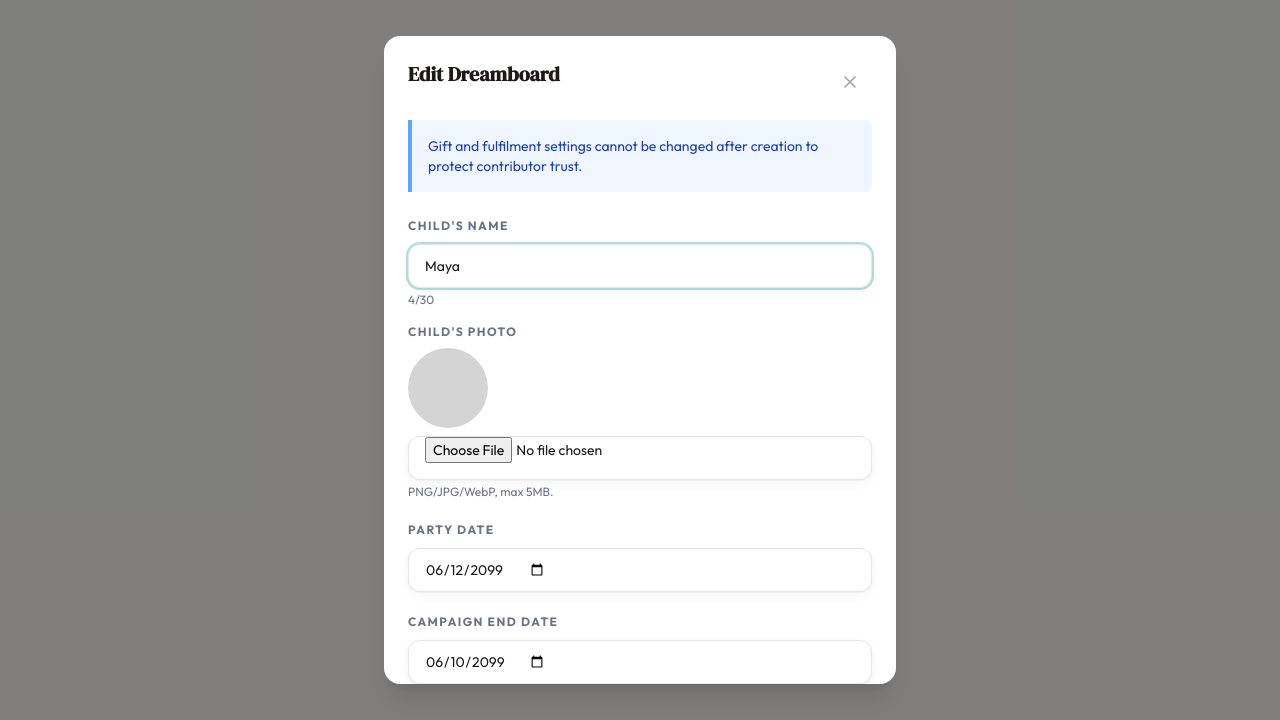
Scenario: EditDreamBoardModal › blocks campaign end date after party date
Type "2099-06-13" into the date field labelled "Campaign End Date".
click(640, 662); type("2099-06-13")  # box [408,640,872,684]
(page scrolled)
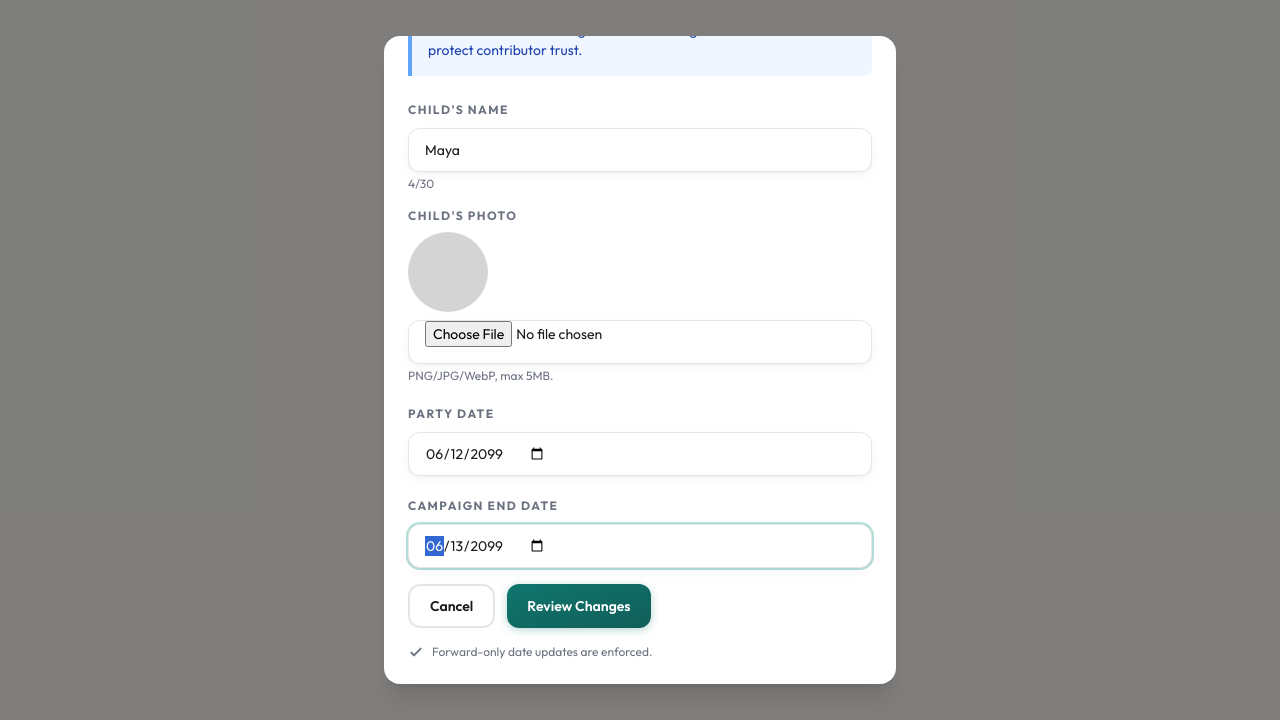
Click the button "Review Changes".
click(579, 606)  # box [507,584,651,628]
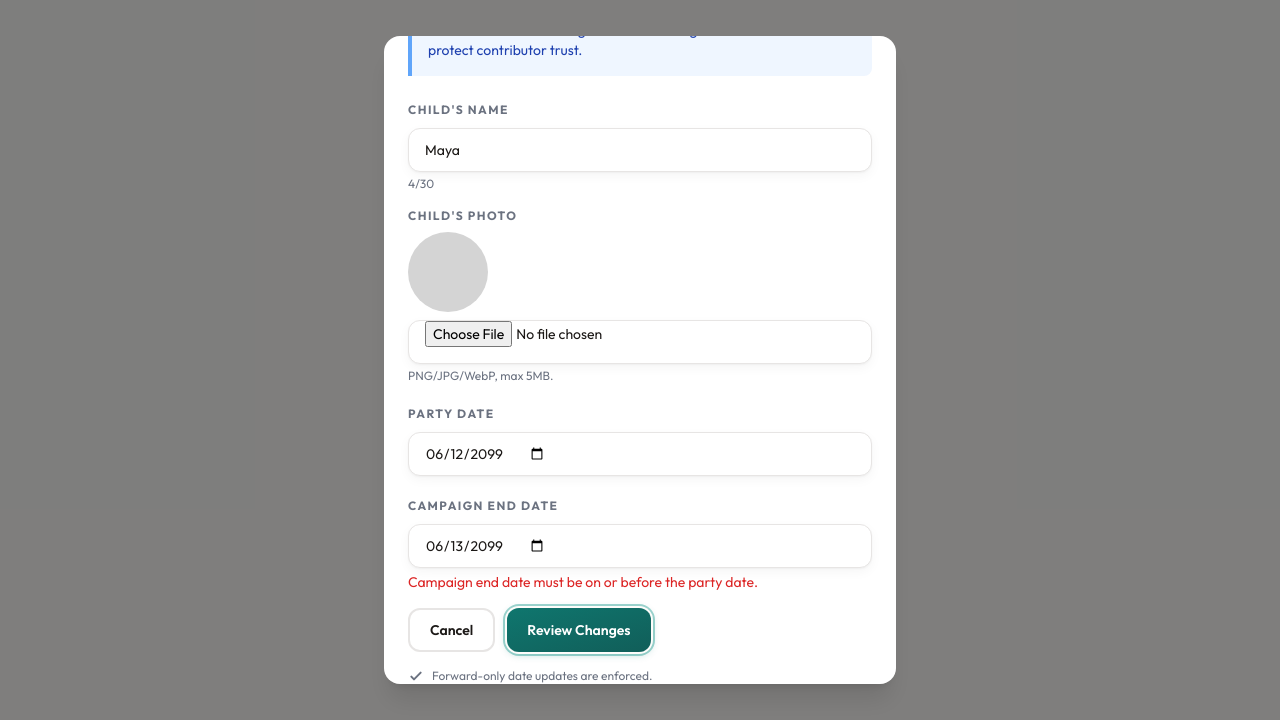
Expected: the text "Campaign end date must be on or before the party date." is shown, [408,573,758,591]
